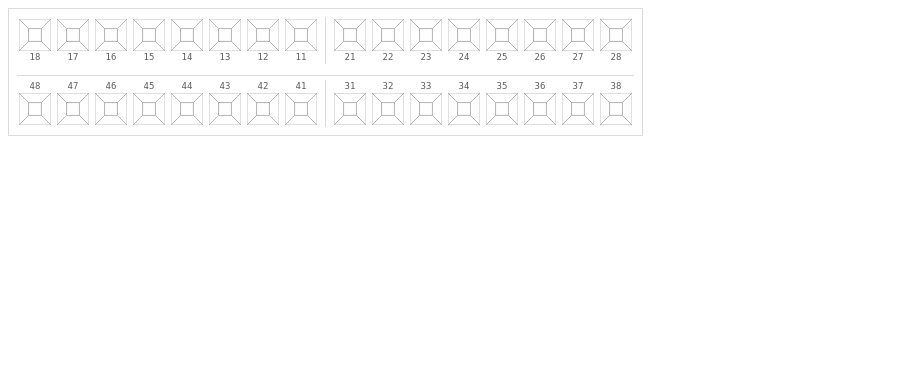
Test: Odontogram — interactivity › Cerrar detalle button closes the panel
Click the button "11". click: [301, 40]
box: [283,17,319,64]
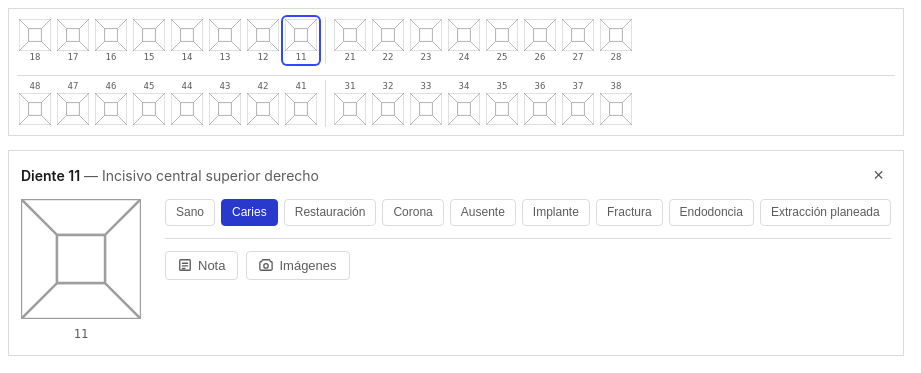
Click the button named "Cerrar detalle". click: [879, 175]
box: [867,163,891,187]
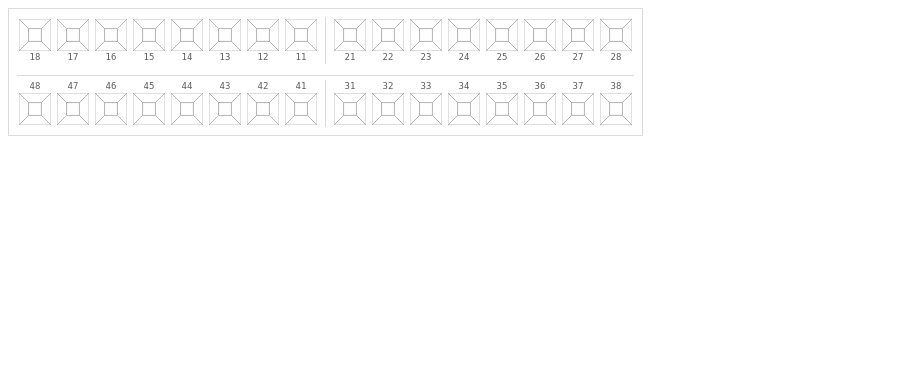
Now the element with test id "tooth-detail-panel" is gone
